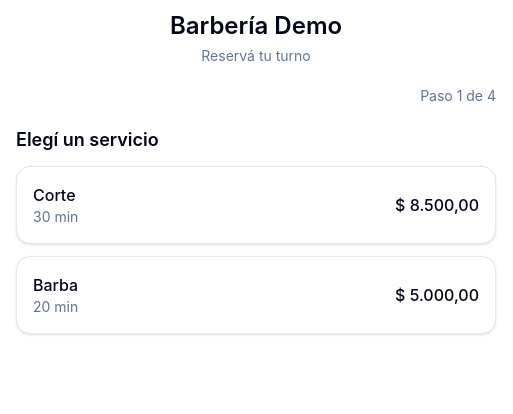
Scenario: public booking site › lets the customer choose between professionals when several perform the service
The width and height of the screenshot is (513, 414).
What coordinates should you click on to do the following:
click the button "Corte 30 min $ 8.500,00"
I would click on:
 (54, 195)
Its box is [16,166,496,244].
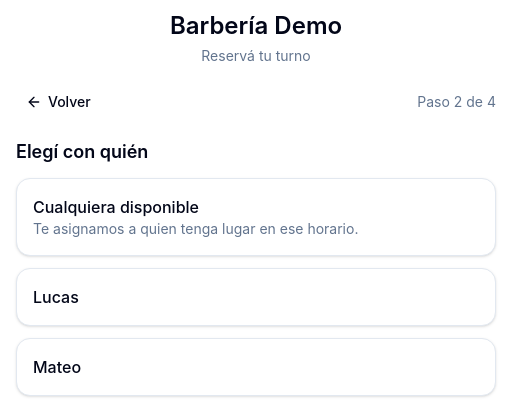
Check: the button "Cualquiera disponible" is shown, box [16,178,496,256]
Check: the button "Lucas" is shown, box [16,268,496,326]
Check: the button "Mateo" is shown, box [16,338,496,396]
